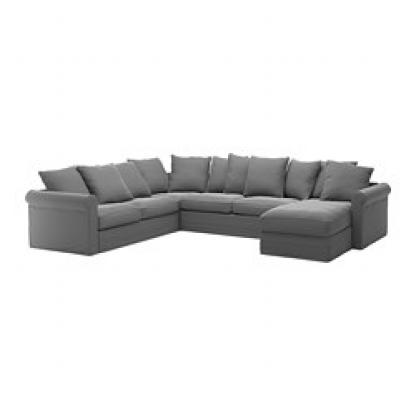Sofa: (22, 153, 391, 271)
